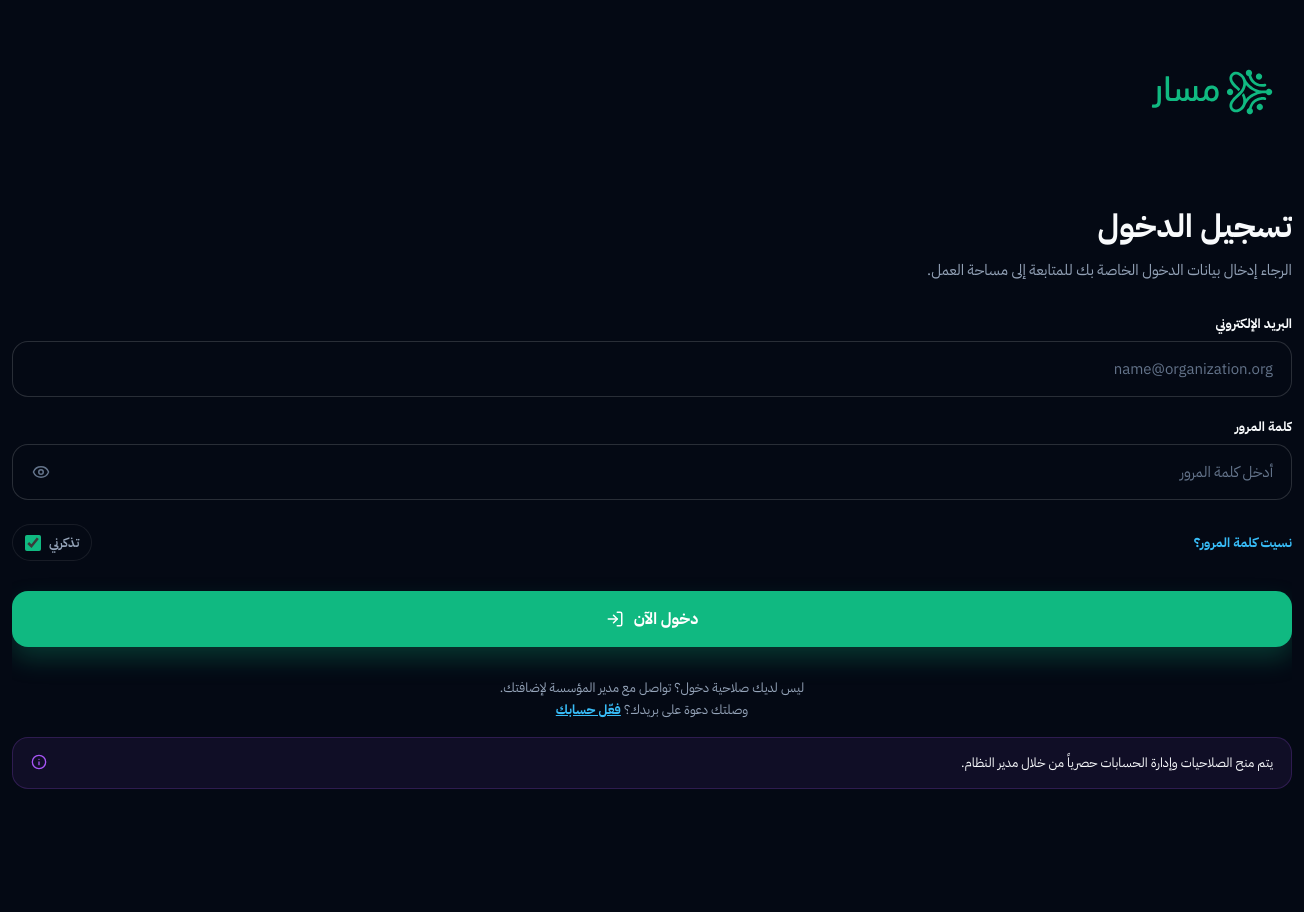
LoginForm (was a setTimeout mock) › shows a friendly error when the server is unreachable
Type "admin@org.org" into the field labelled "البريد الإلكتروني".
click(652, 369); type("admin@org.org")  # box [12,341,1292,397]
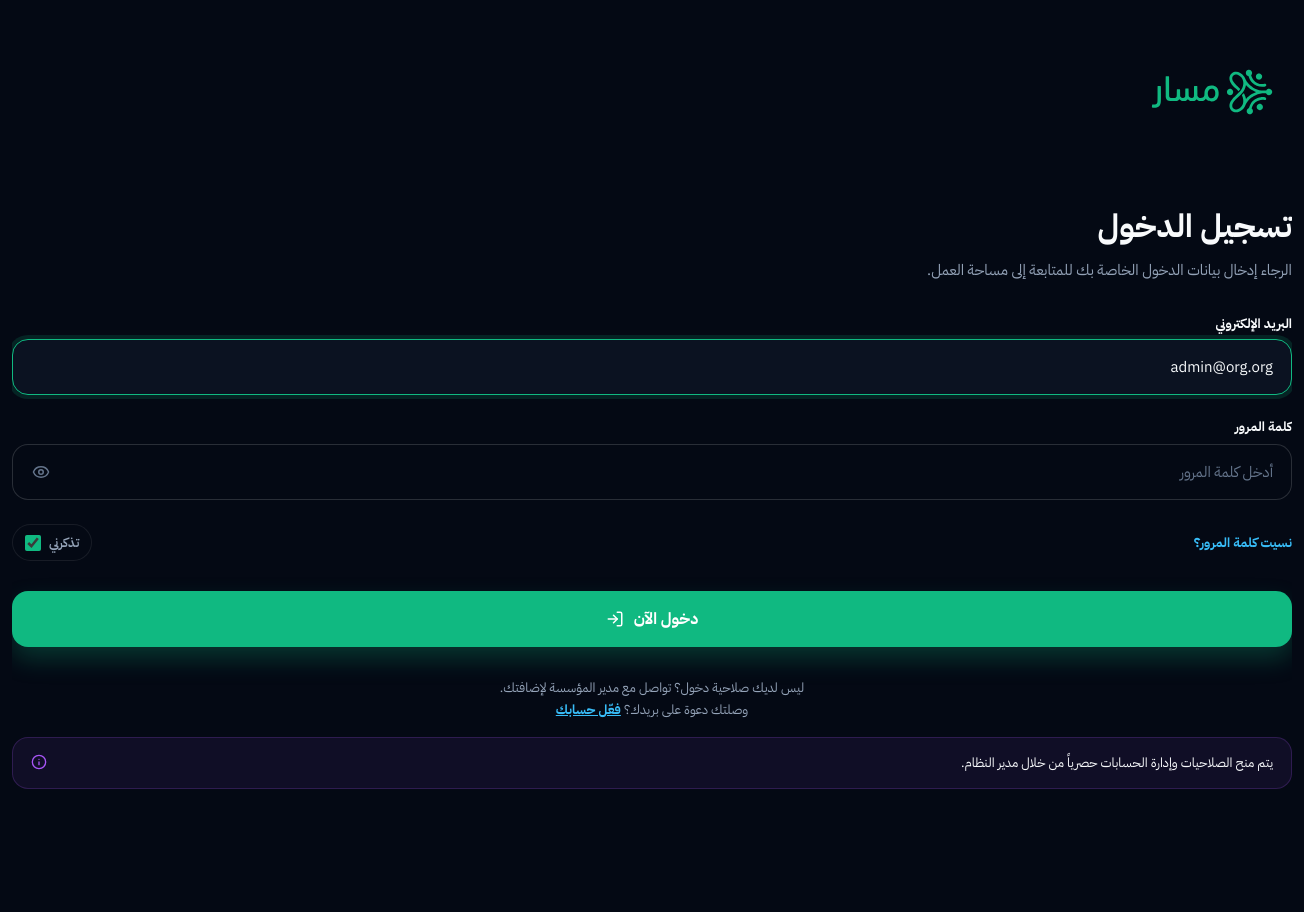
Type "pw" into the password field labelled "كلمة المرور".
click(652, 472); type("pw")  # box [12,444,1292,500]
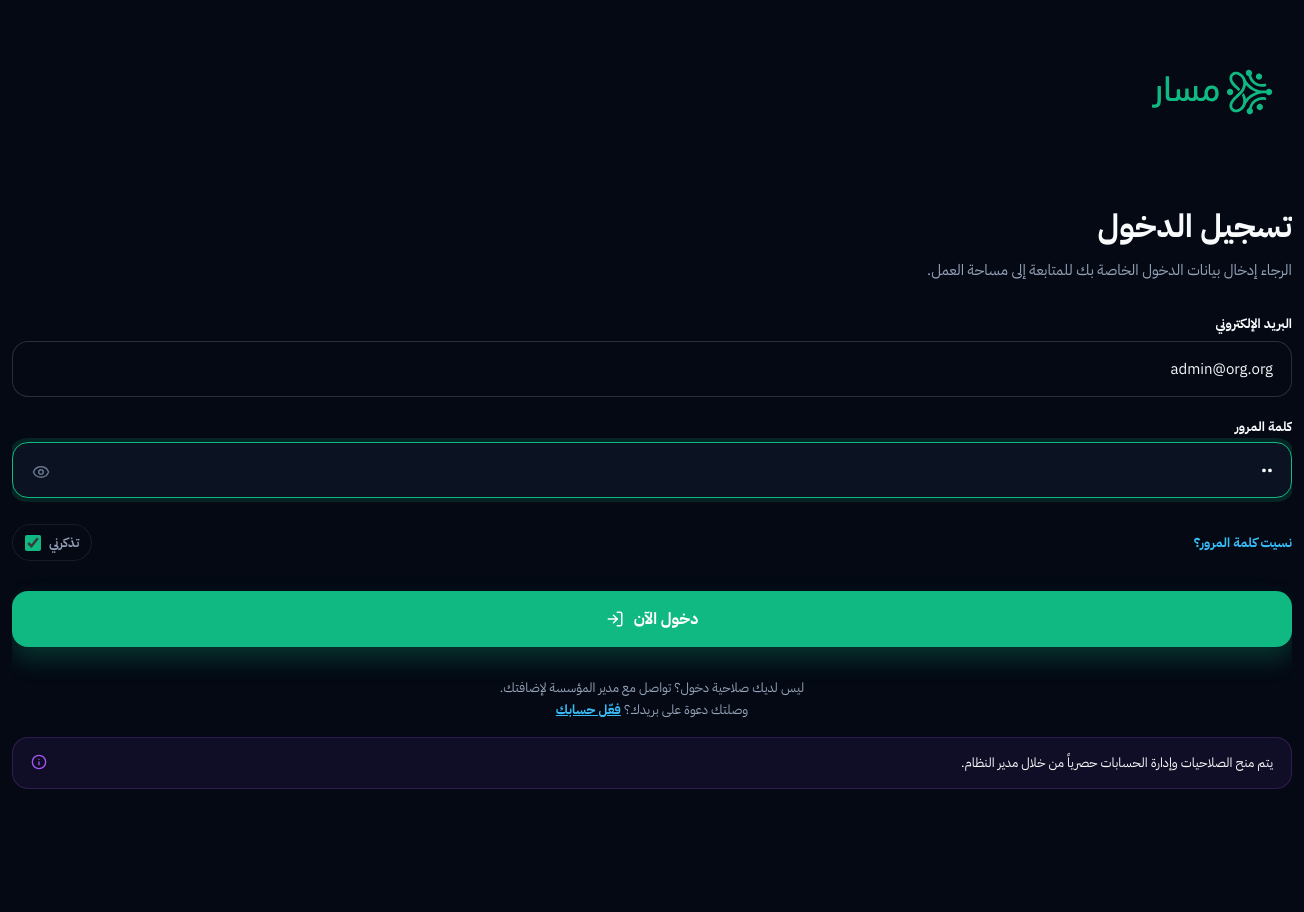
Click the button "دخول الآن".
click(652, 619)  # box [12,591,1292,647]
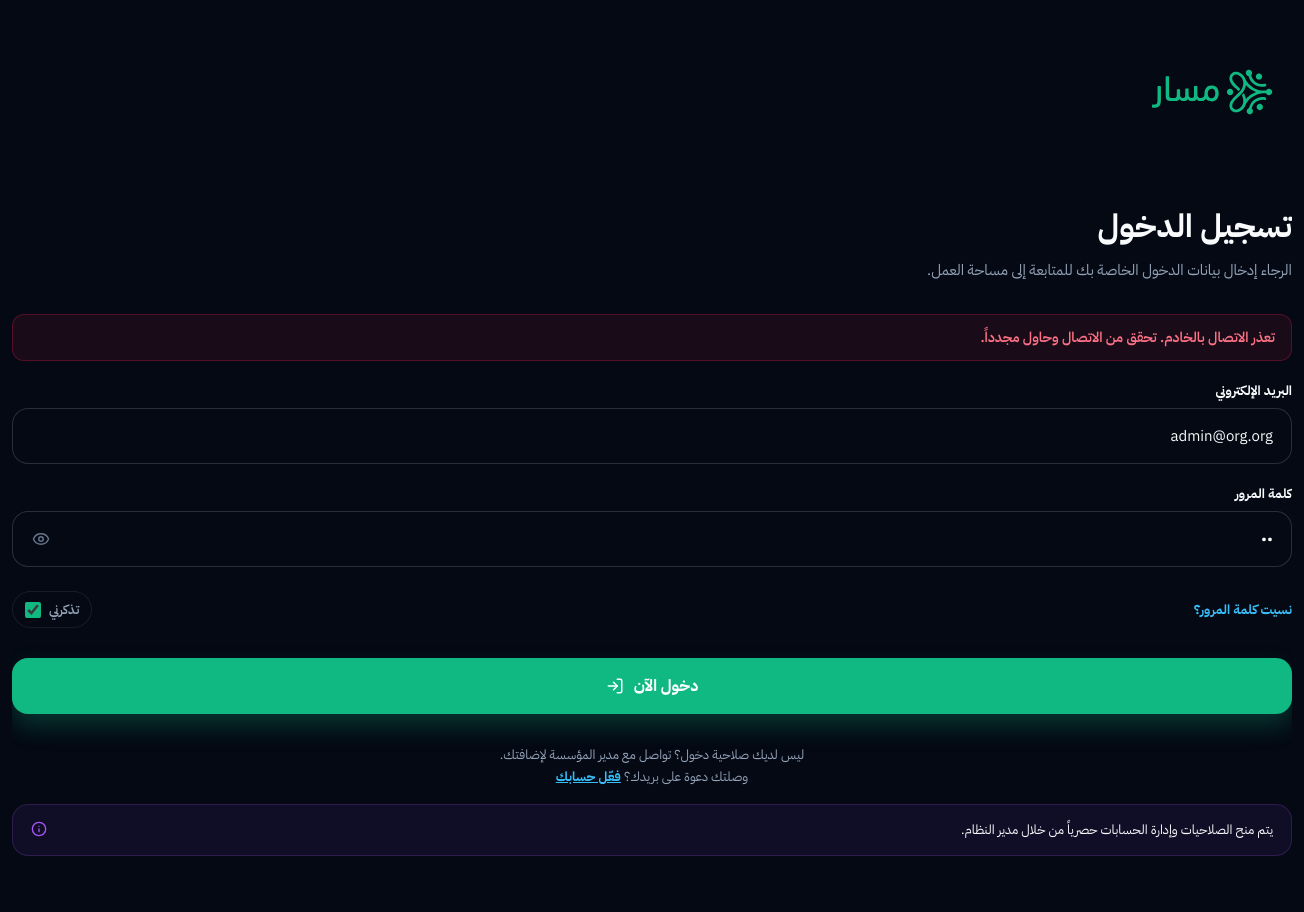
Expected: the message shows "تعذر الاتصال بالخادم", [980,327,1275,348]
